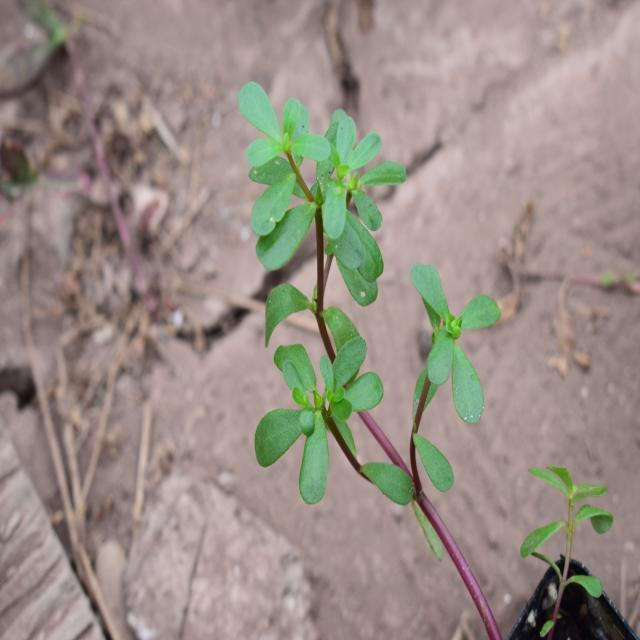purslane: (216, 57, 492, 514)
